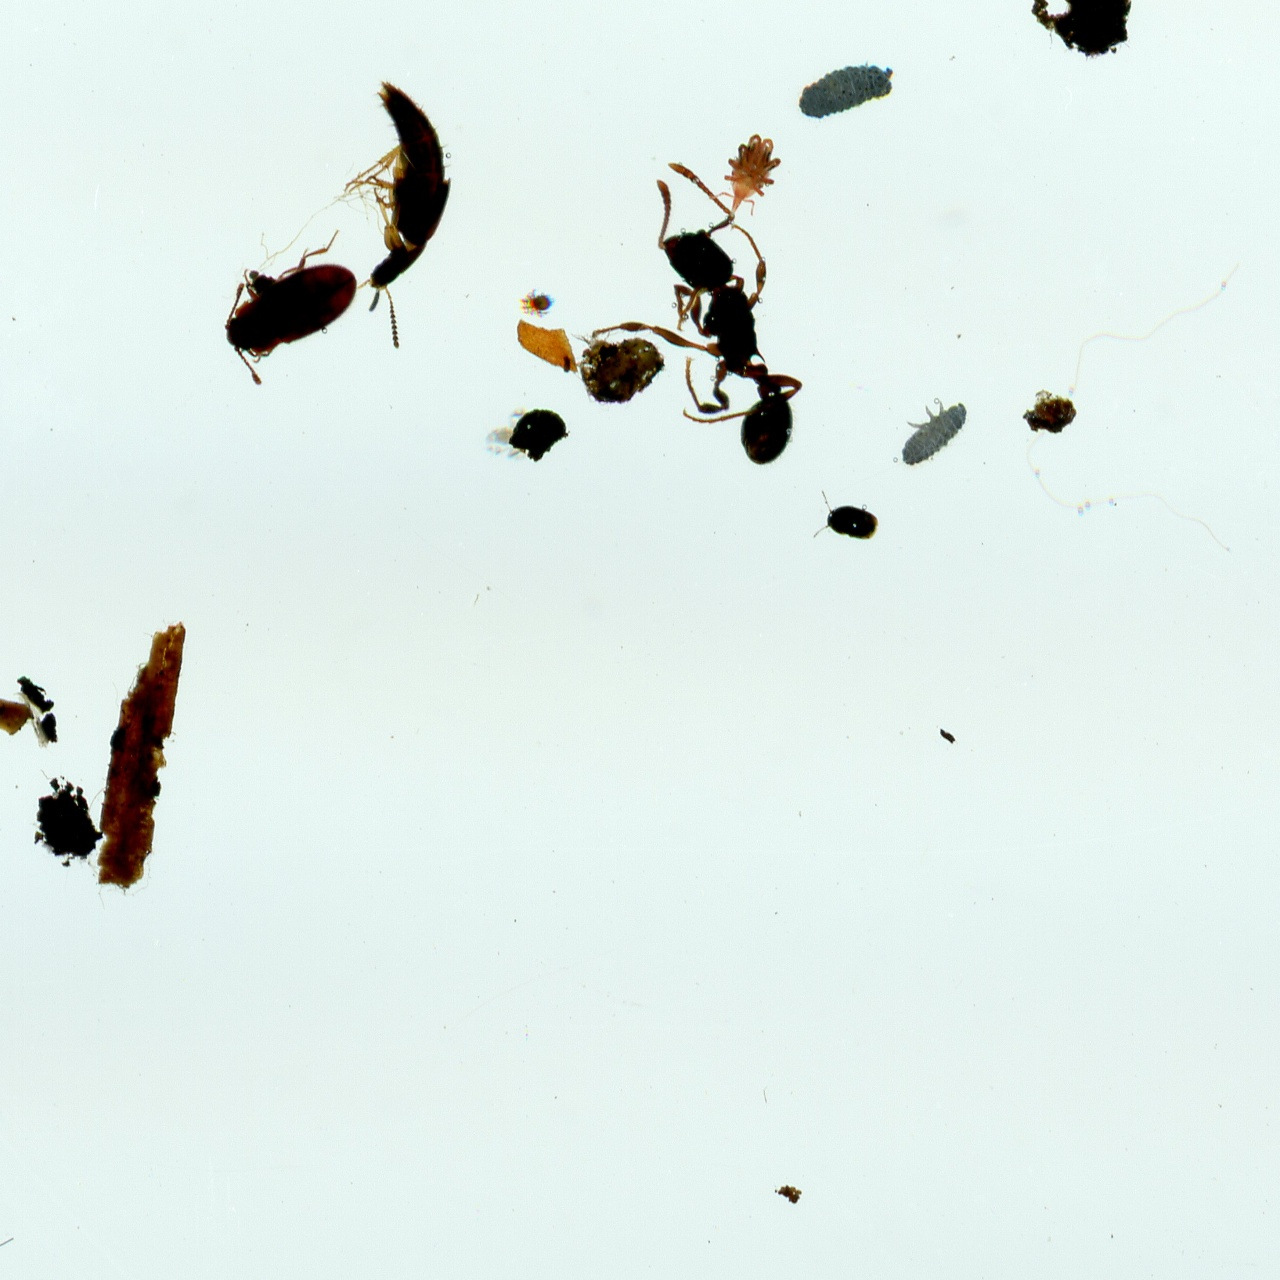arthropod: (584, 161, 804, 470), (191, 213, 390, 396), (339, 76, 454, 353), (880, 381, 982, 477), (710, 122, 790, 224), (795, 59, 900, 120), (812, 490, 879, 540), (516, 286, 558, 320)
